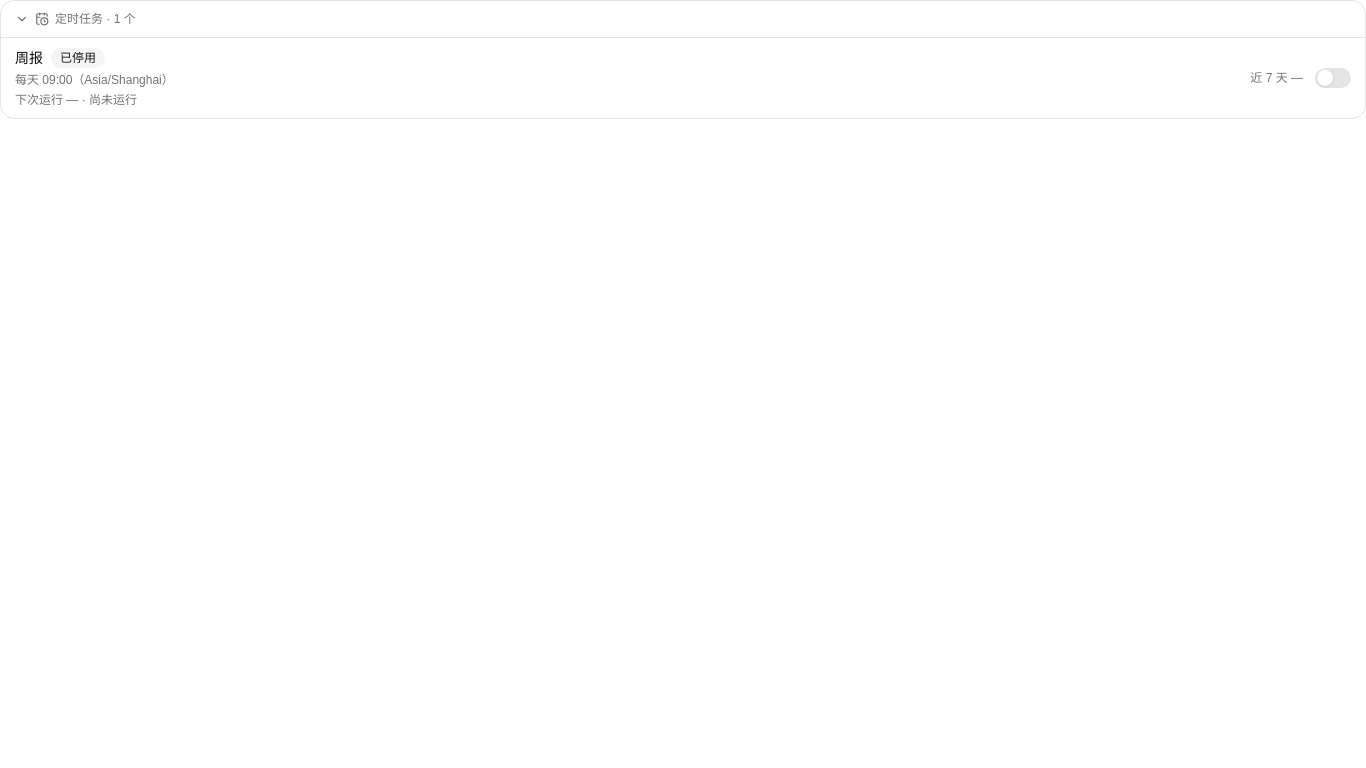
BotScheduleSection › 无状态时展示空态且清空按钮不可用
Click the text "周报": (29, 58) [15, 48, 43, 68]
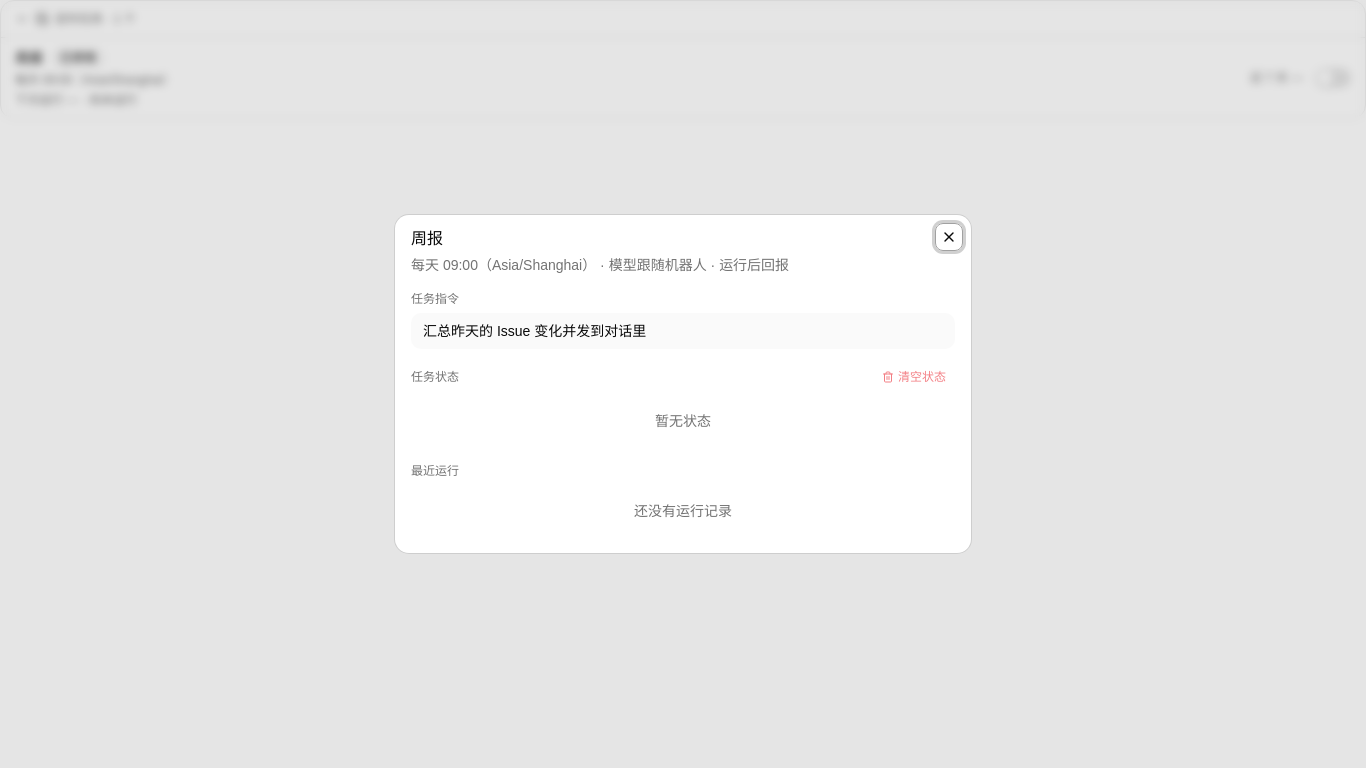
Result: the dialog shows "暂无状态" at [655, 413, 711, 429]
Result: the button "清空状态" is disabled at [873, 365, 955, 389]
